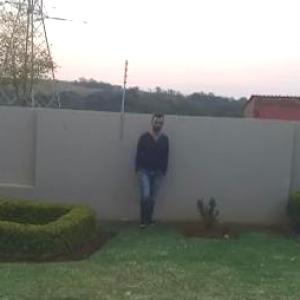follow: (132, 109, 169, 231)
